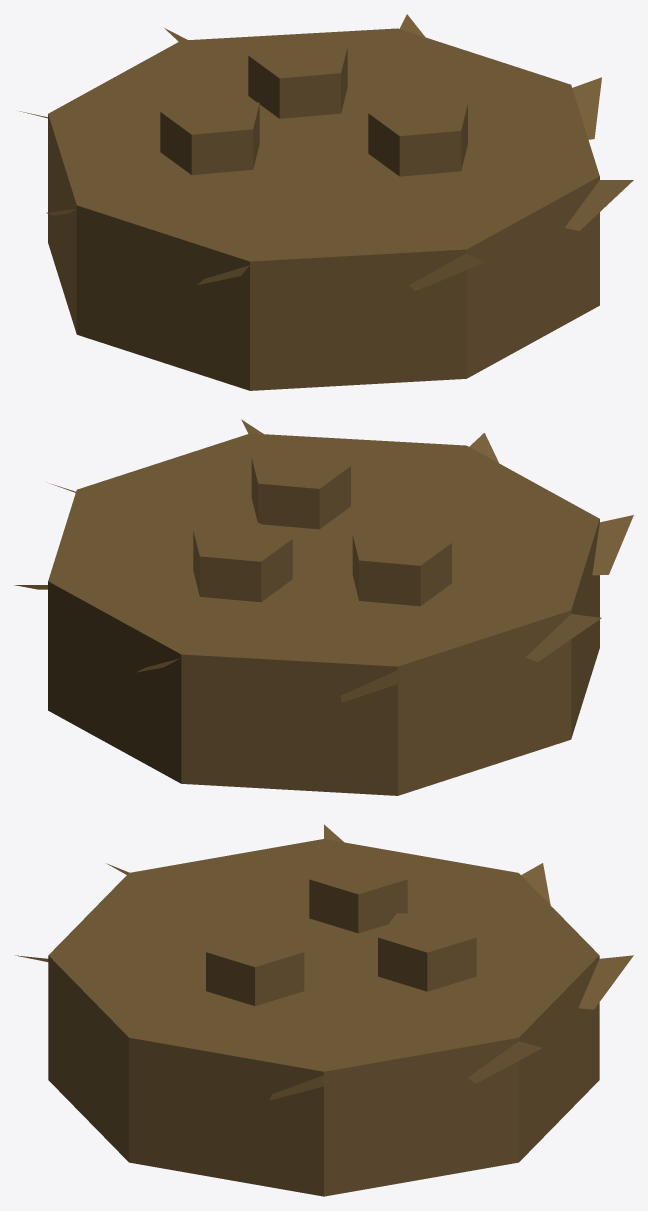
File: nest.obj
3 renders of one model, top to bottom at view 1: azimuth 30°, elevation 25°; view 2: azimuth 150°, elevation 25°; view 3: azimuth 270°, elevation 25°, orthographic. The views are drawn at different scales.
Size of the model in its own units: 0.18 by 0.0525 by 0.18.
